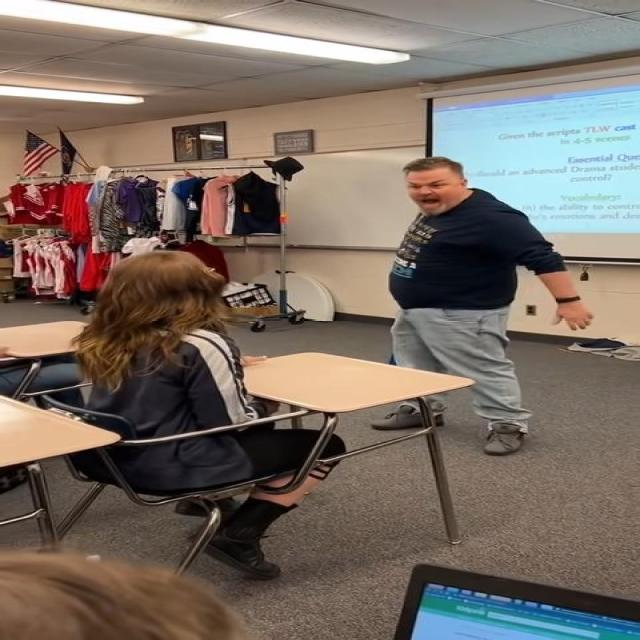NO-Mask: (408, 168, 465, 211)
